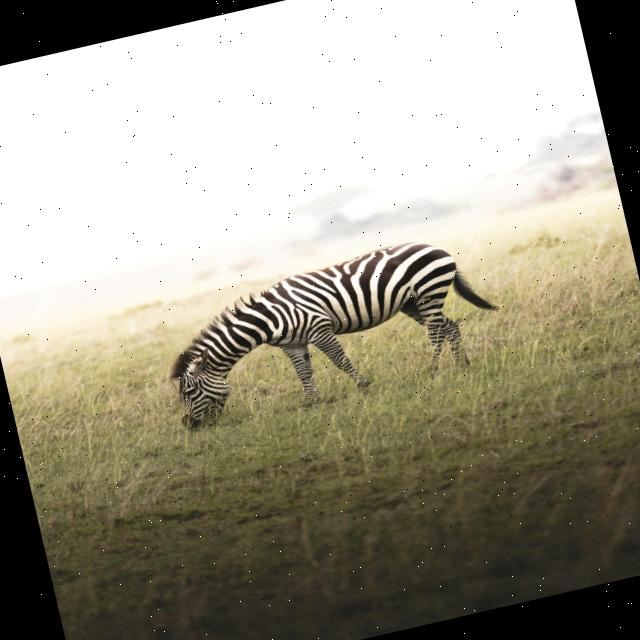Zebra: (148, 224, 510, 436)
